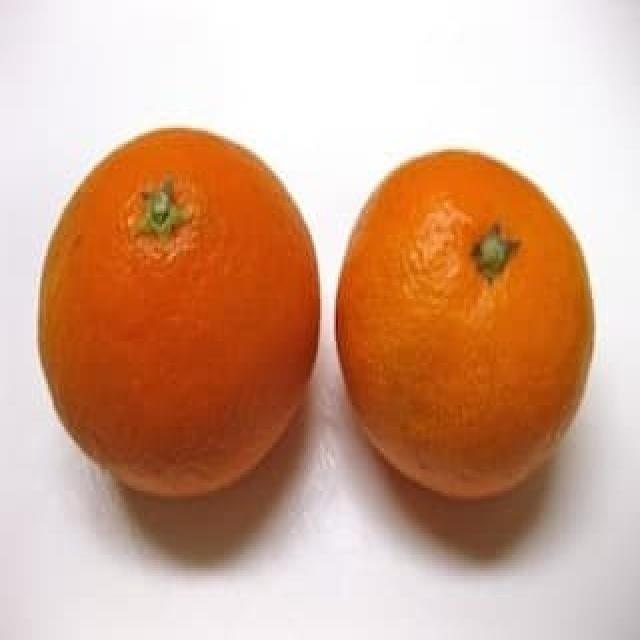Orange: (34, 127, 320, 496), (330, 152, 596, 498)
